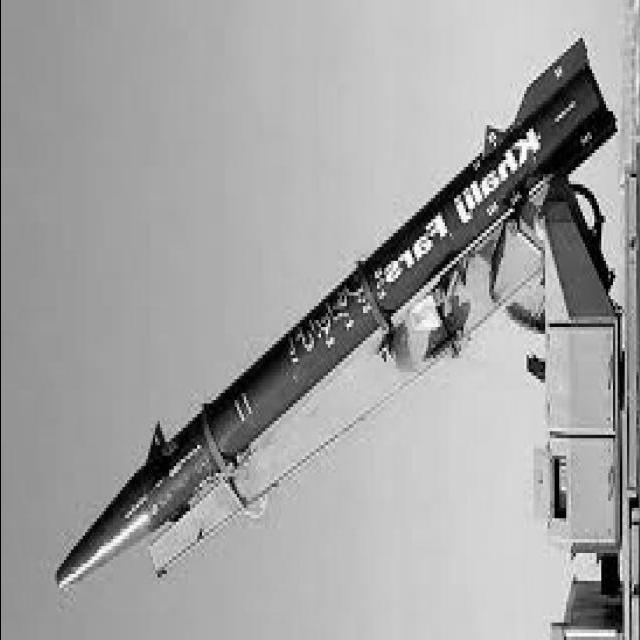missile: (3, 14, 632, 640)
